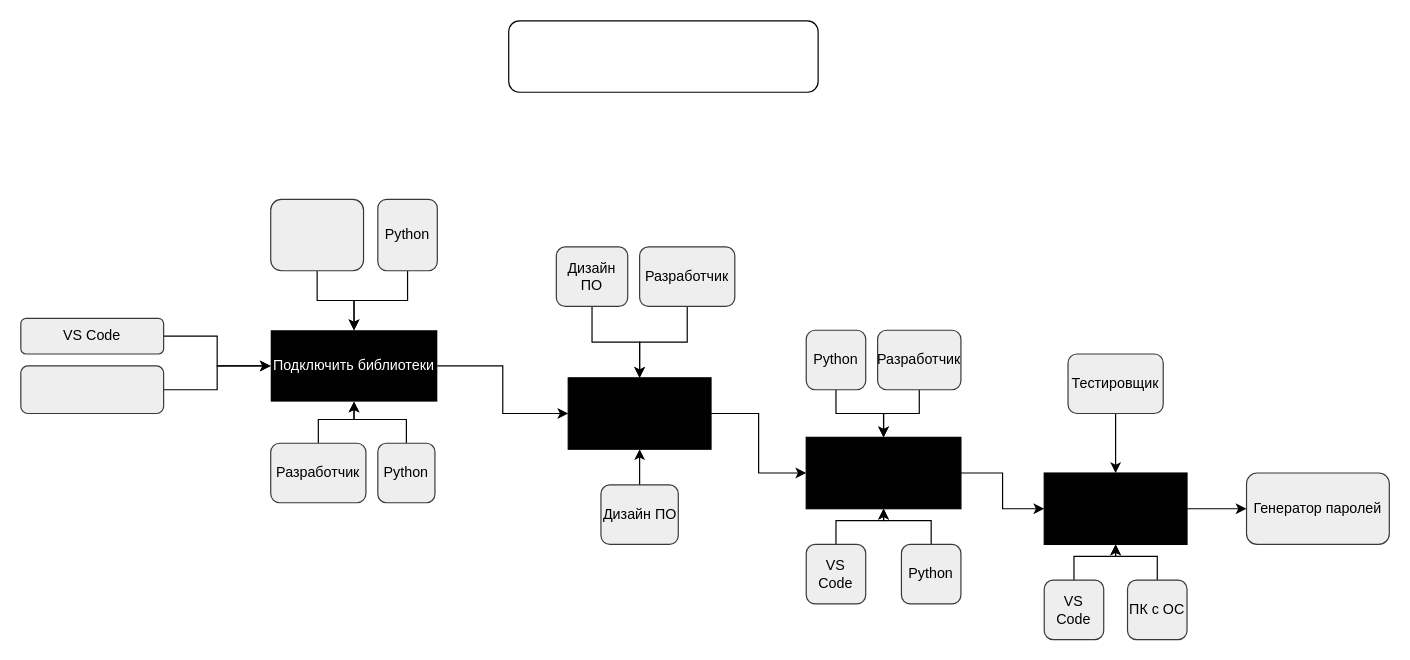
The diagram is 1410 pixels wide and 660 high, and some of its shapes have lost their labels. The shapes that lost their labels are listed below. From the top down, each one's box as (x1, y1, x2, y2) in pixels, then its label:
(508, 20, 818, 92): Декомпозиция процесса
(270, 198, 364, 271): Документация библиотеки
(20, 365, 164, 414): Информация из внешних источников
(567, 377, 711, 449): Создать интерфейс
(805, 436, 961, 509): Создать и подключить логику генерации пароля
(1043, 472, 1187, 544): Протестировать работоспособность программы
